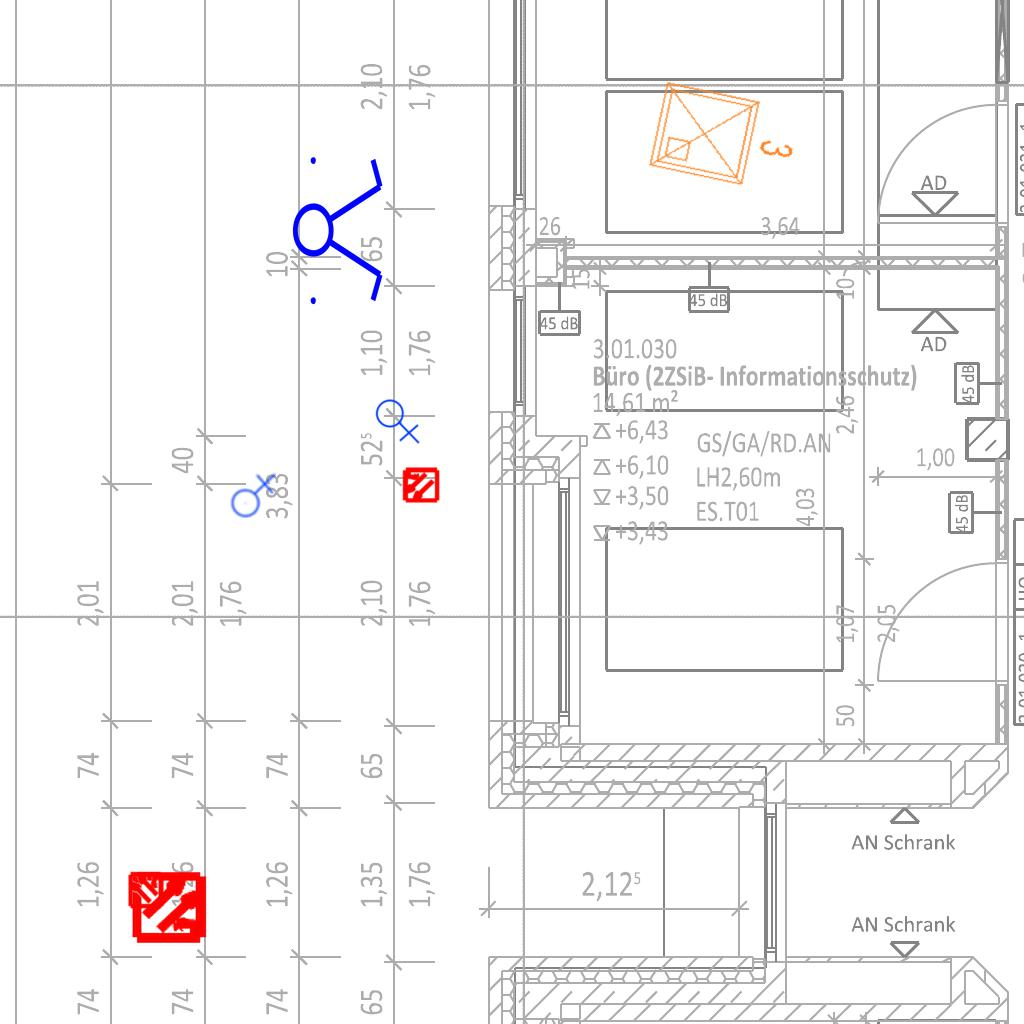Einbaudownlights_LED_Konferenzraeume: (640, 69, 810, 203)
Elektroanschluss_allgemein_230V_Geraeteanschlussdose_230V: (227, 471, 276, 518), (375, 395, 422, 444)
OT_Multisensormelder_(Kombination_RMO_WMD): (115, 851, 228, 964), (392, 457, 448, 513), (118, 861, 174, 917)
Serienschalter: (291, 145, 387, 313)
